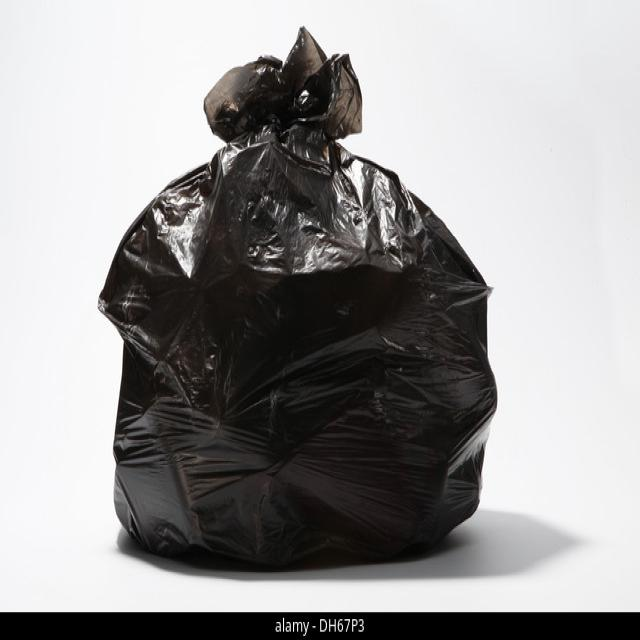trash: (72, 47, 535, 558)
